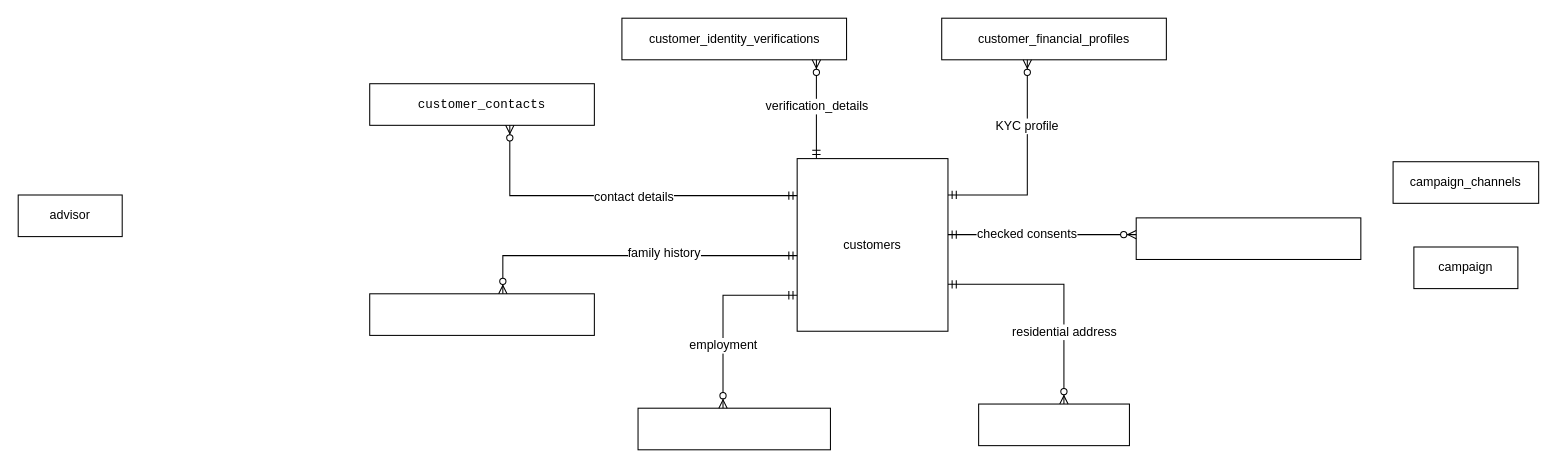
Some shapes in this 1557 by 468 pixel diagram are drawn without their labels. The shapes that lost their labels are listed below. From the top down, each one's box as (x1, y1, x2, y2) in pixels, then its label:
(1135, 217, 1361, 259): consents
(369, 293, 594, 335): customer_family
(637, 407, 830, 450): customer_employment
(978, 403, 1129, 446): customer_addresses
